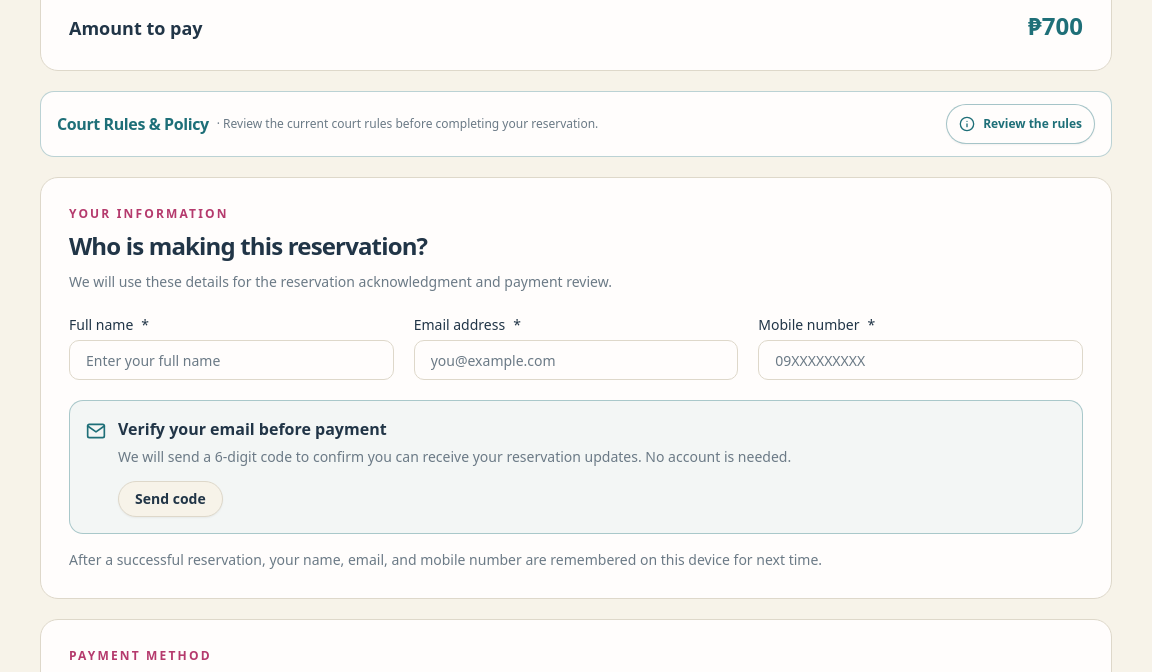
Test: ReservationCheckout › rejects an invalid email before sending any code
(page scrolled)
Type "invalid" into the field labelled "Email address" at (576, 360), box x1=414 y1=340 x2=738 y2=380
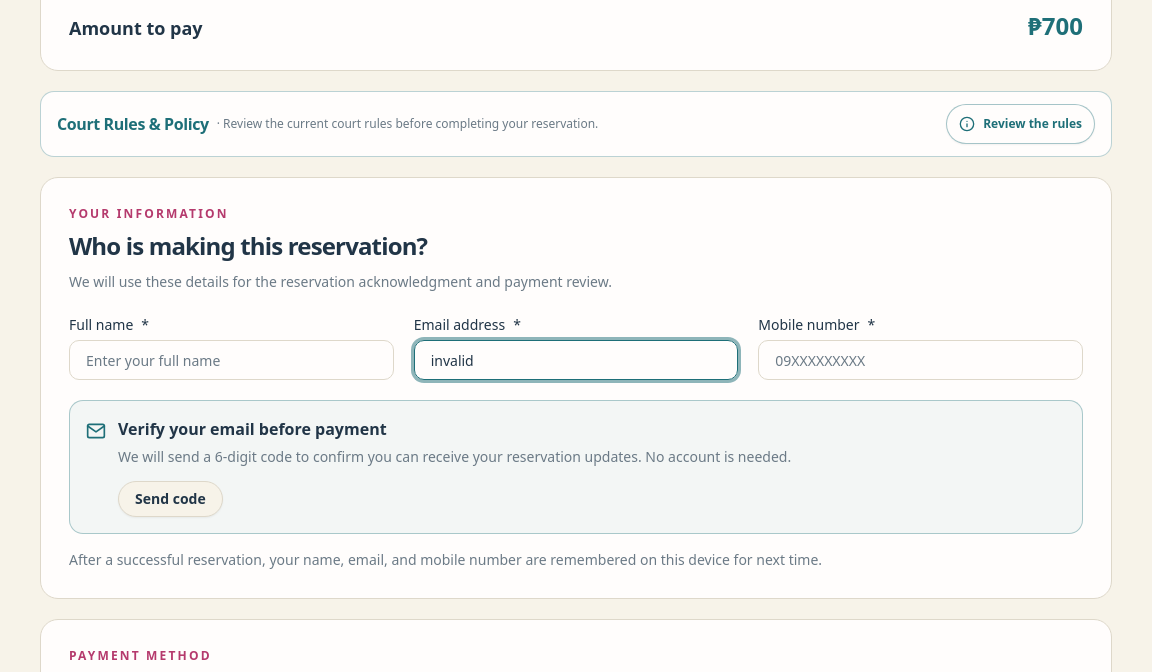
Click the button "Send code" at (170, 499), box x1=118 y1=481 x2=223 y2=517
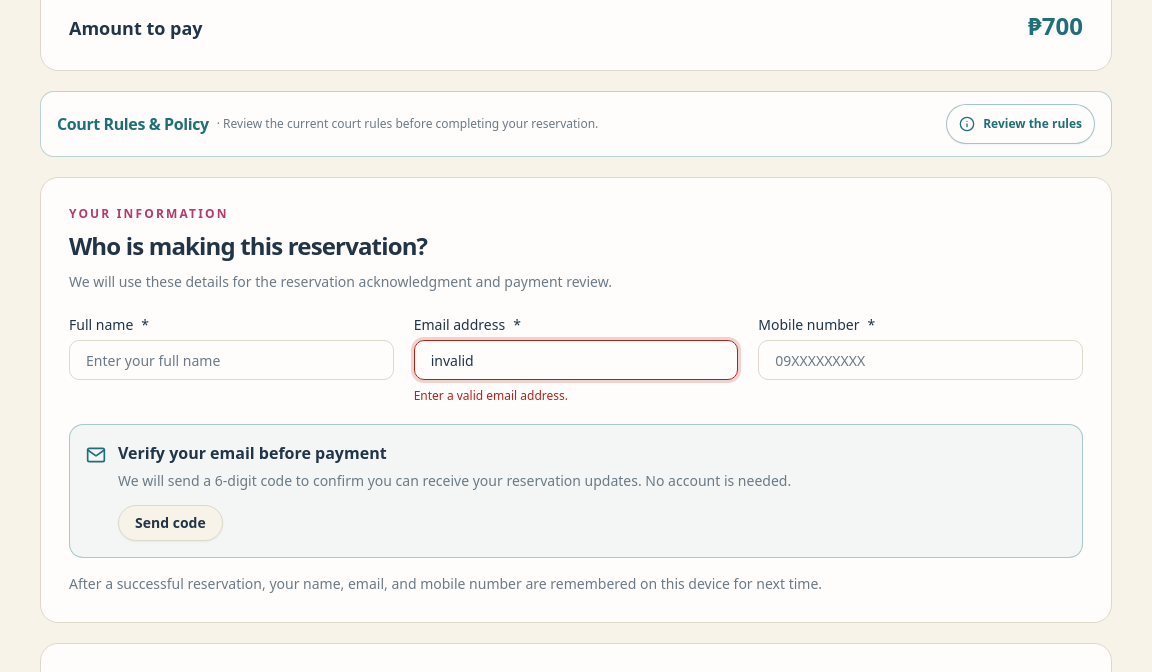
expect the text "Enter a valid email address." is shown: met, box x1=414 y1=387 x2=568 y2=404
